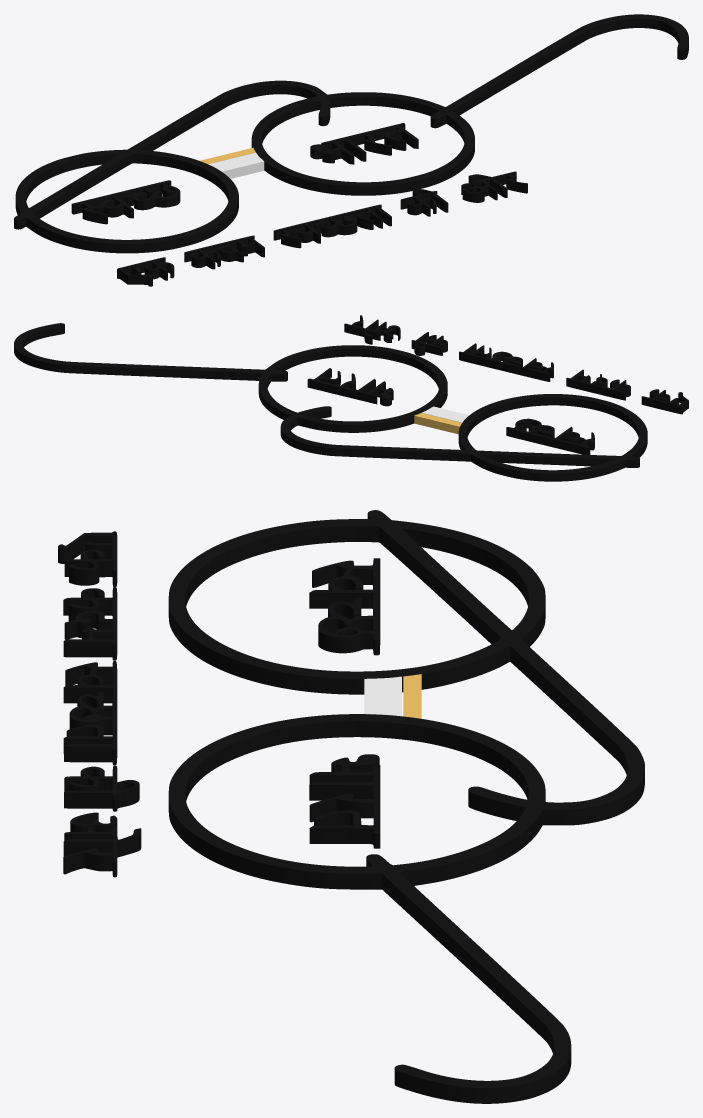
The model's file is swachhbharat.glb.
3 renders of one model, top to bottom at view 1: azimuth 30°, elevation 25°; view 2: azimuth 150°, elevation 25°; view 3: azimuth 270°, elevation 25°, orthographic. The views are drawn at different scales.
Size of the model in its own units: 3.92 by 0.05 by 1.68.
